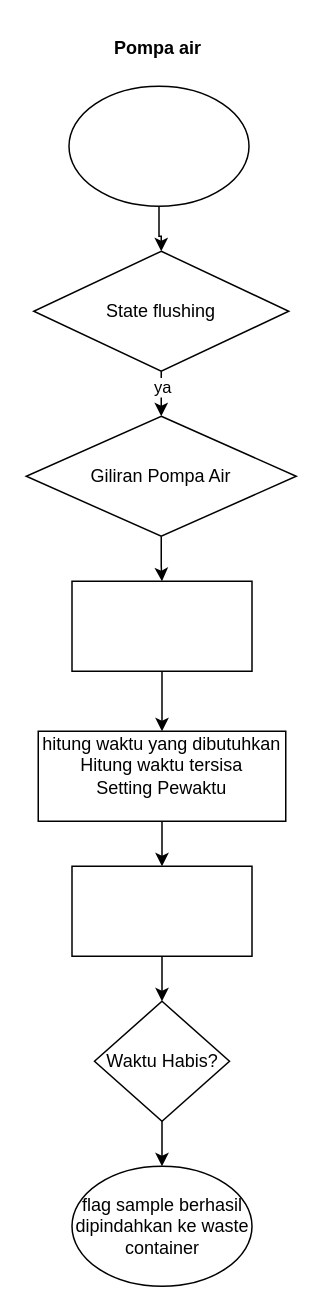
Image size: 323x1313. Some labels were removed from this diagram. Each missing label, with the box of its shape:
set PWM (170) Kirim Progress %: (70, 865, 252, 956)
Start: (68, 85, 249, 206)
sync berapa mL yang harus disemburkan: (70, 580, 252, 671)
